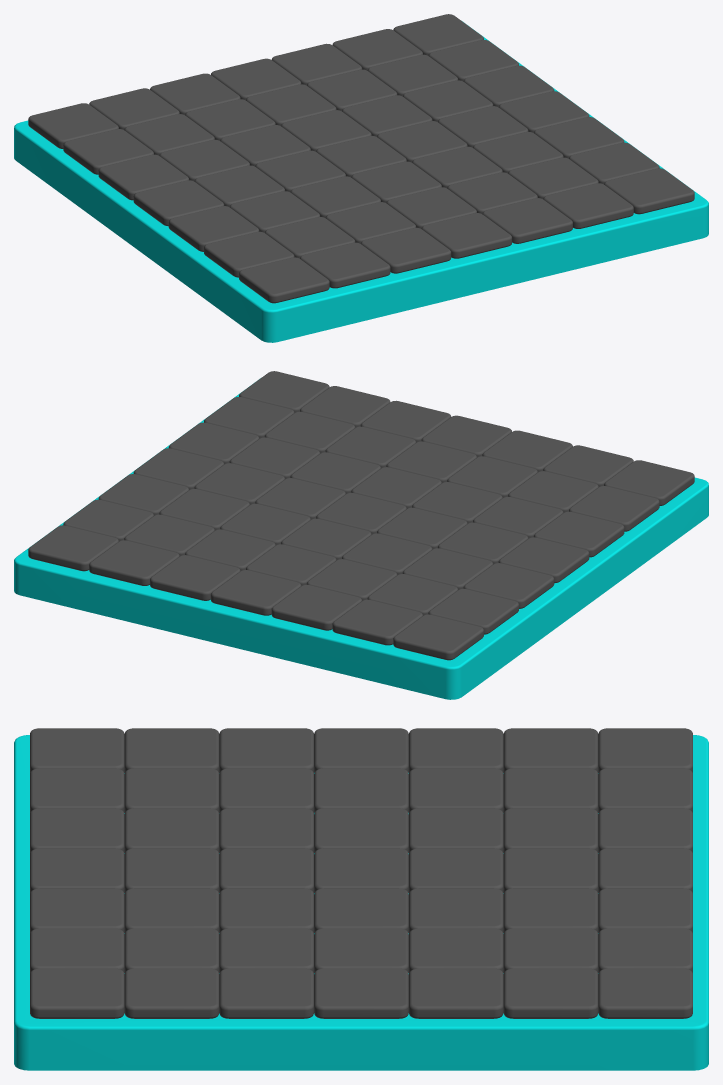
Rendered from Gid7x7.fbx.
3 views of the same model, one above another, from view 1: azimuth 30°, elevation 25°; view 2: azimuth 150°, elevation 25°; view 3: azimuth 270°, elevation 25° (orthographic). The views are drawn at different scales.
Visible parts, largest first — view 1: GridStand, f43, f29, f36, f3, f22, f7, f15, f47, f46, f48, f44 (+38 smaller); view 2: GridStand, f49, f35, f42, f6, f28, f13, f21, f45, f46, f44, f47 (+38 smaller); view 3: GridStand, f2, f5, f3, f4, f6, f, f1, f16, f20, f30, f34 (+38 smaller).
Part boxes in pixels (left/top/right/bottom): GridStand: left=14, top=21, right=708, bottom=342; f43: left=239, top=257, right=329, bottom=303; f29: left=360, top=227, right=451, bottom=273; f36: left=300, top=242, right=390, bottom=288; f3: left=604, top=168, right=694, bottom=214; f22: left=421, top=213, right=512, bottom=258; f7: left=543, top=183, right=633, bottom=228; f15: left=482, top=198, right=572, bottom=243; f47: left=98, top=154, right=189, bottom=200; f46: left=133, top=180, right=224, bottom=226; f48: left=63, top=129, right=153, bottom=174; f44: left=204, top=231, right=294, bottom=277; GridStand: left=14, top=378, right=708, bottom=699; f49: left=393, top=614, right=483, bottom=660; f35: left=271, top=584, right=362, bottom=630; f42: left=332, top=599, right=422, bottom=645; f6: left=28, top=525, right=118, bottom=571; f28: left=210, top=570, right=301, bottom=615; f13: left=89, top=540, right=179, bottom=585; f21: left=150, top=555, right=240, bottom=600; f45: left=533, top=511, right=624, bottom=557; f46: left=498, top=537, right=589, bottom=583; f44: left=569, top=486, right=659, bottom=531; f47: left=463, top=563, right=554, bottom=608; GridStand: left=14, top=735, right=708, bottom=1070; f2: left=124, top=968, right=219, bottom=1018; f5: left=503, top=968, right=598, bottom=1018; f3: left=30, top=968, right=124, bottom=1018; f4: left=409, top=968, right=503, bottom=1018; f6: left=598, top=968, right=692, bottom=1018; f: left=314, top=968, right=408, bottom=1018; f1: left=219, top=968, right=313, bottom=1018; f16: left=124, top=888, right=219, bottom=933; f20: left=503, top=888, right=598, bottom=933; f30: left=124, top=808, right=219, bottom=853; f34: left=503, top=808, right=598, bottom=853.
Bounding box in the file's own units: 25.19 × 2.26 × 25.19.
